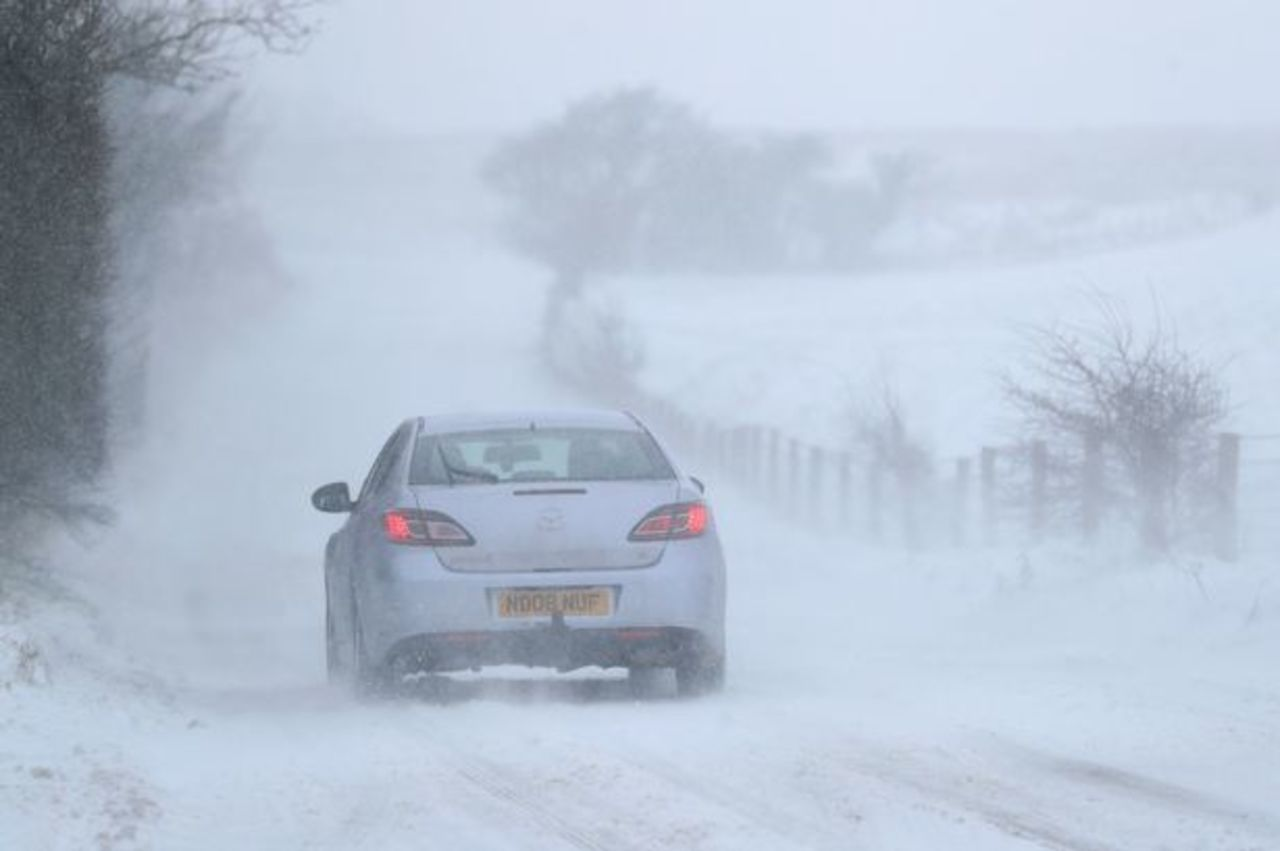car: (310, 404, 730, 711)
